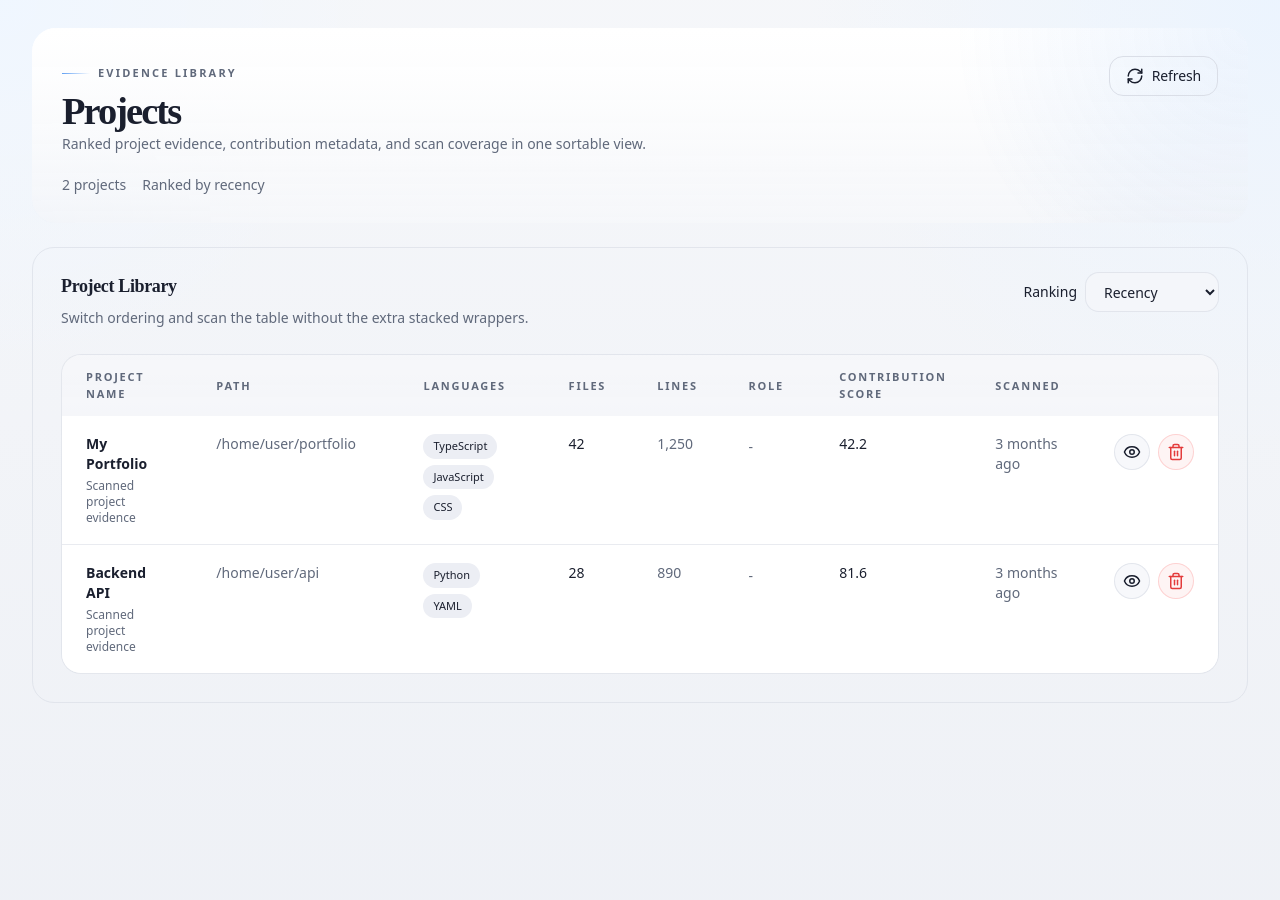
Test: ProjectsPage › deletes project when confirmed
Click the button titled "Delete project" in the row of "My Portfolio".
click(1176, 452)  # box [1158,434,1194,470]
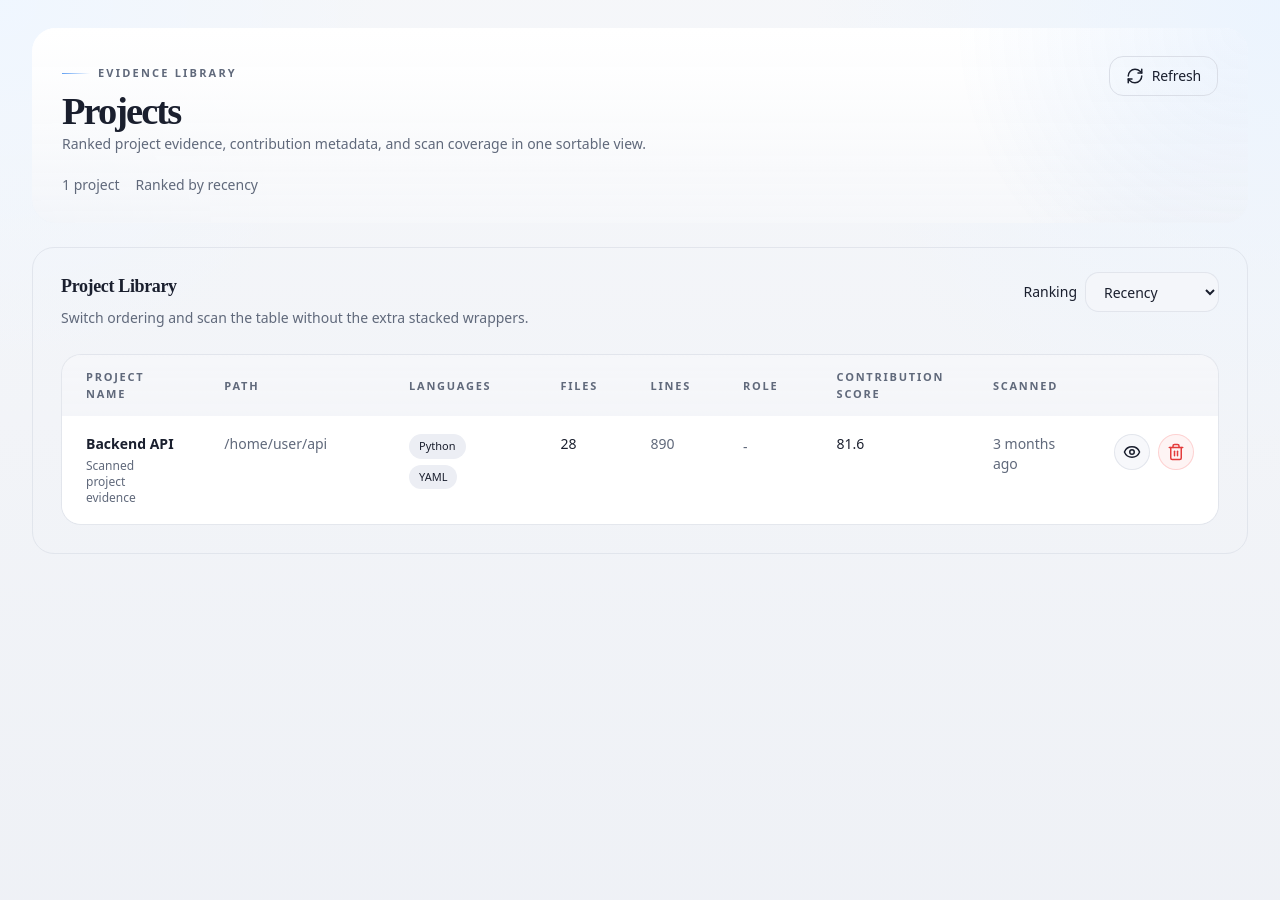
Result: the text "My Portfolio" is gone
